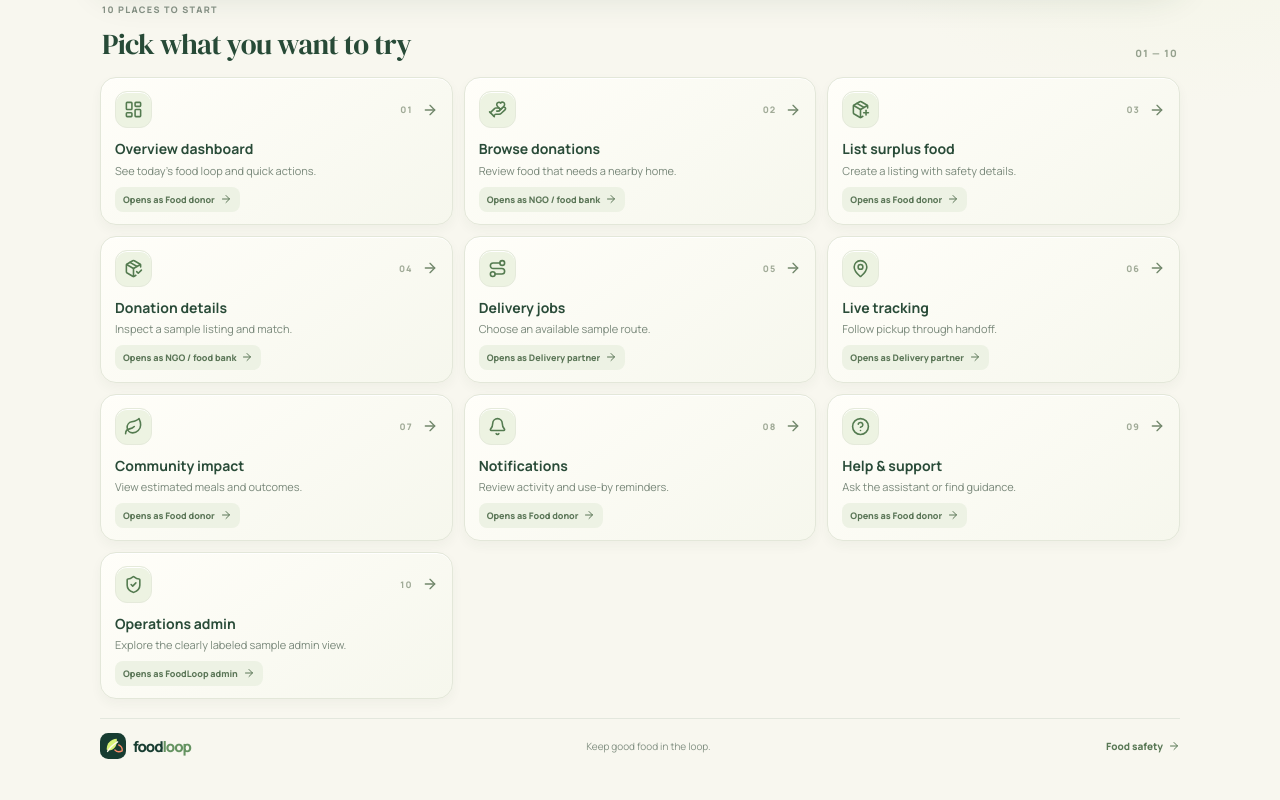
Scenario: FoodLoop screen selection › opens Community impact with the donor demo identity
The image size is (1280, 800).
(page scrolled)
Click the button with aria-label "Open Community impact as Food donor" at (134, 426), box [100,394,453,541]
(page scrolled)
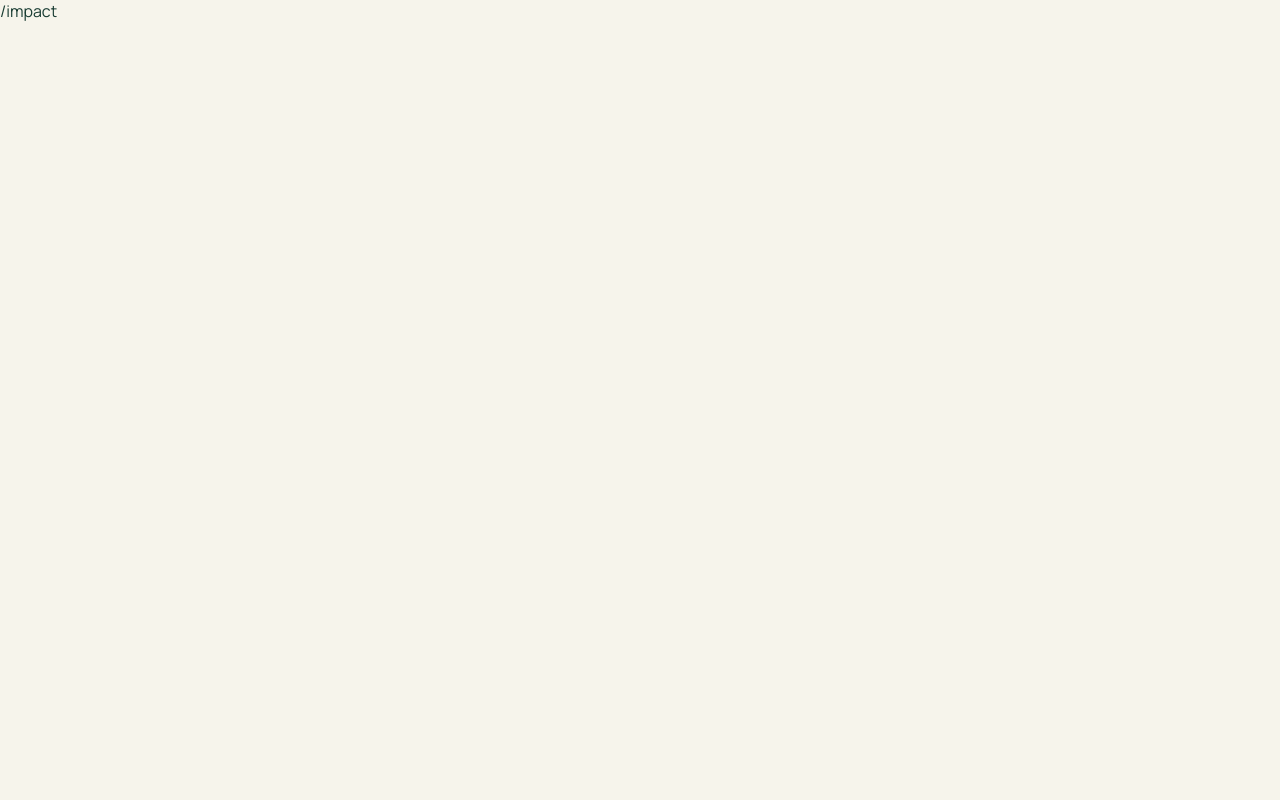
expect the text with test id "current-route" reads "/impact": met, box [0,0,57,22]
